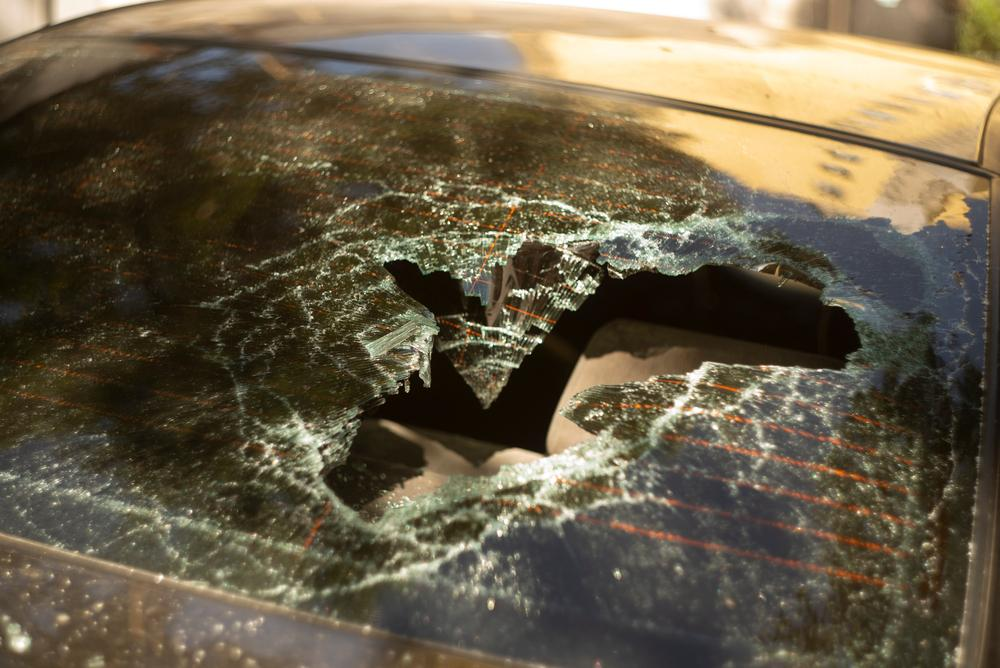glass shatter: (0, 40, 991, 668)
